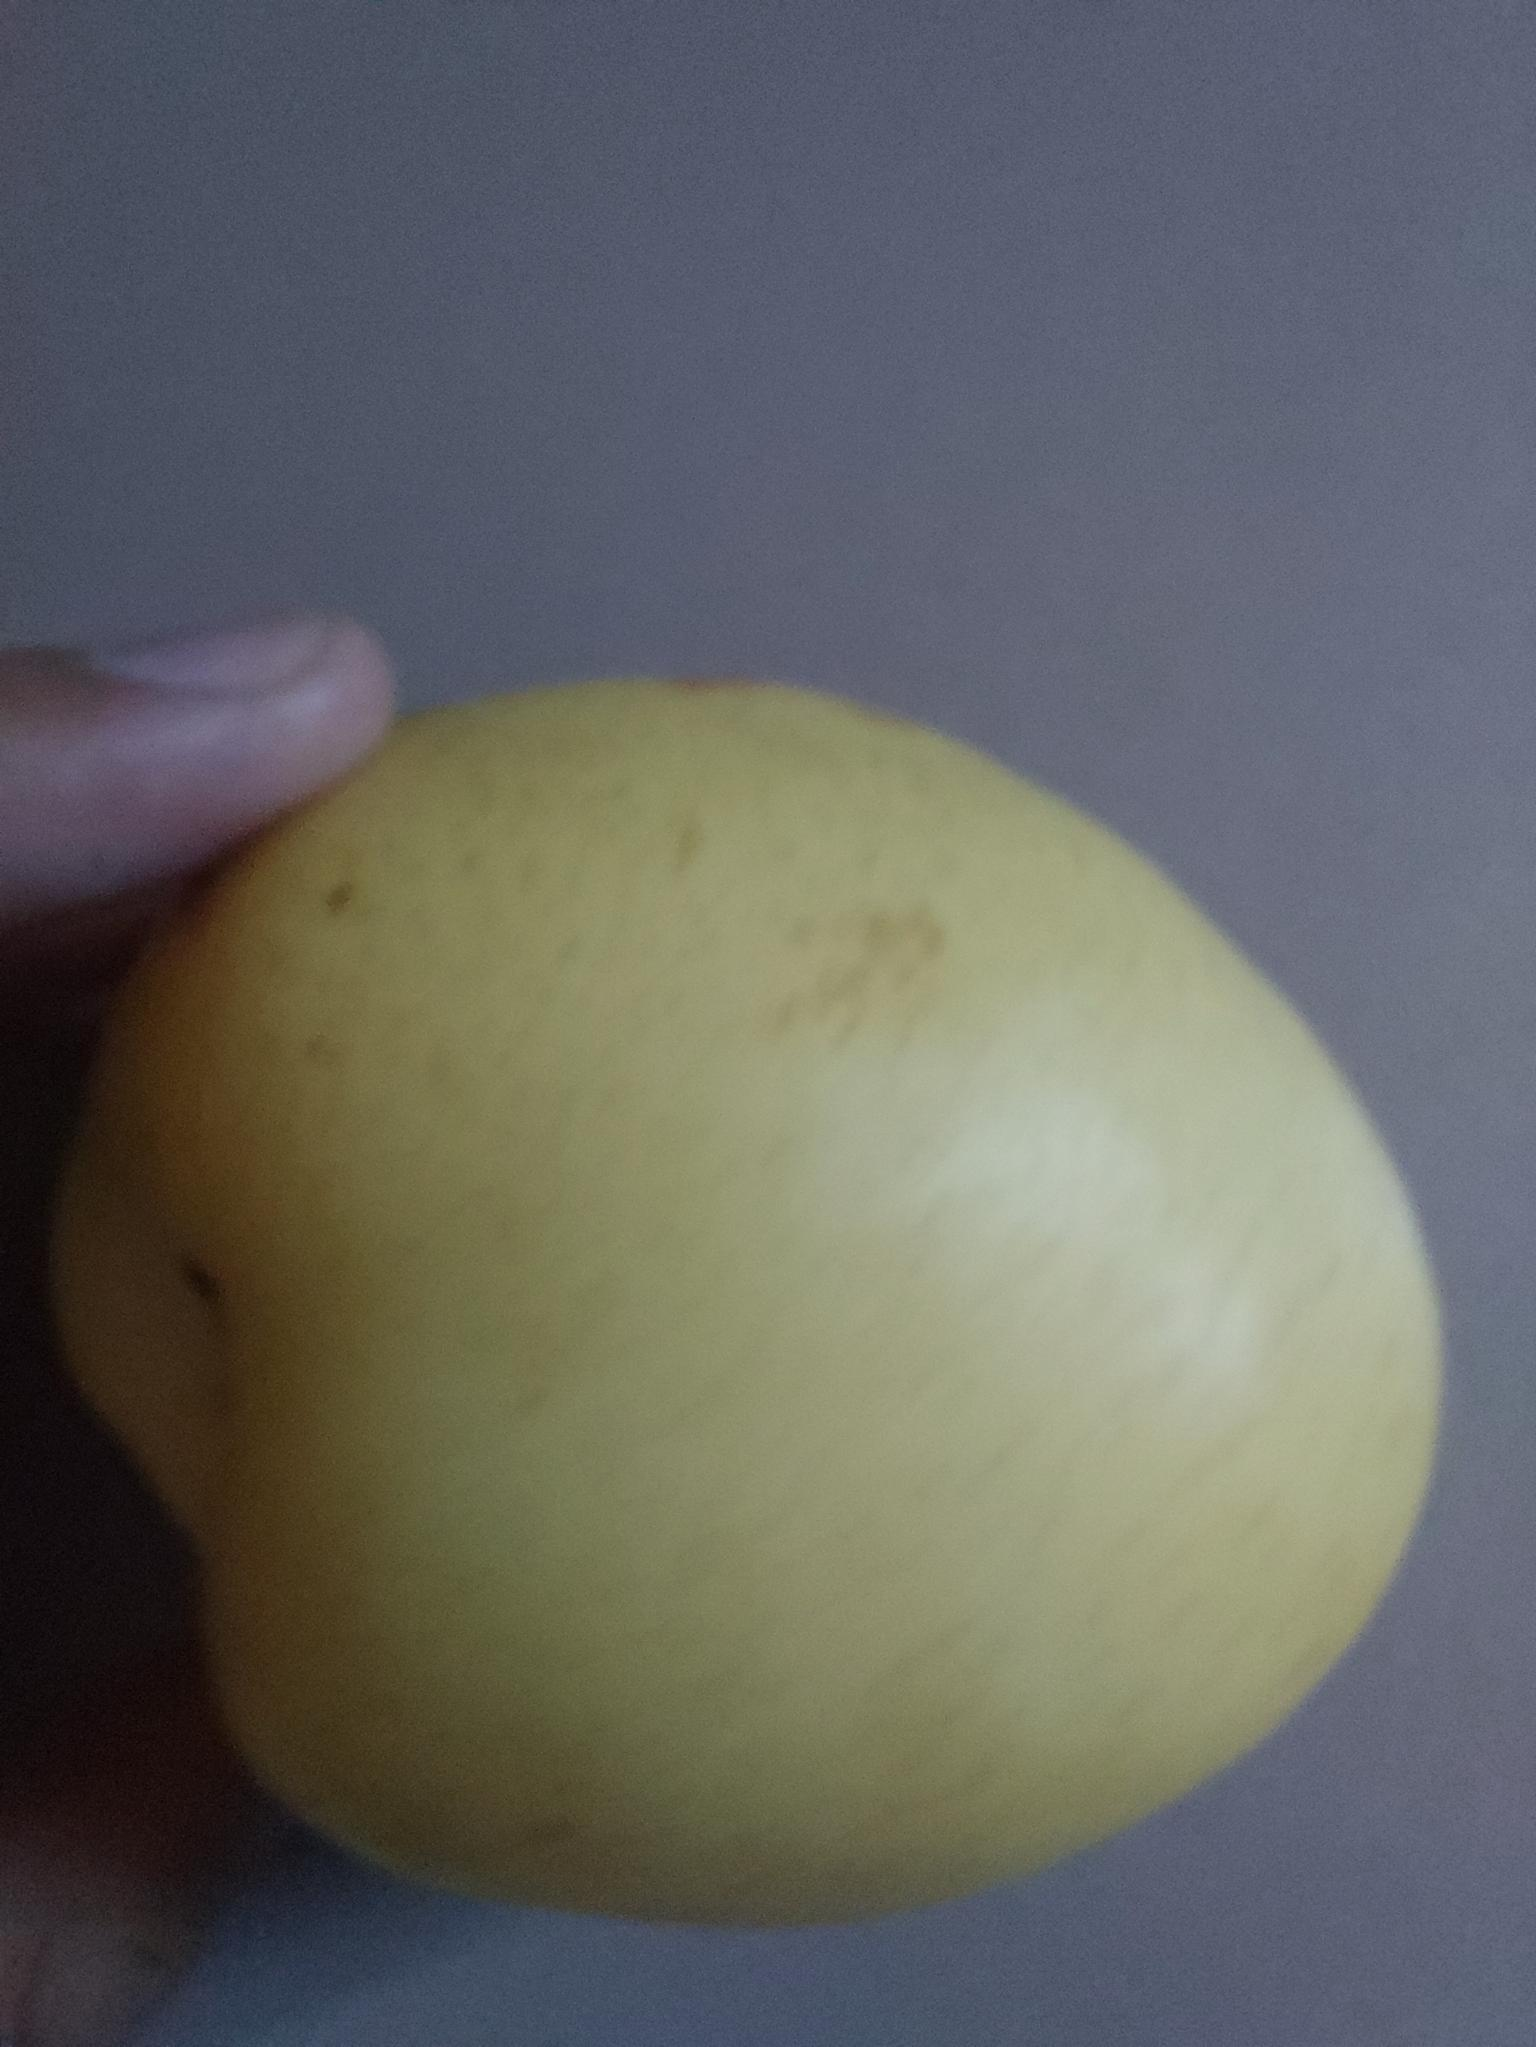Good Pear: (52, 653, 1447, 1939)
